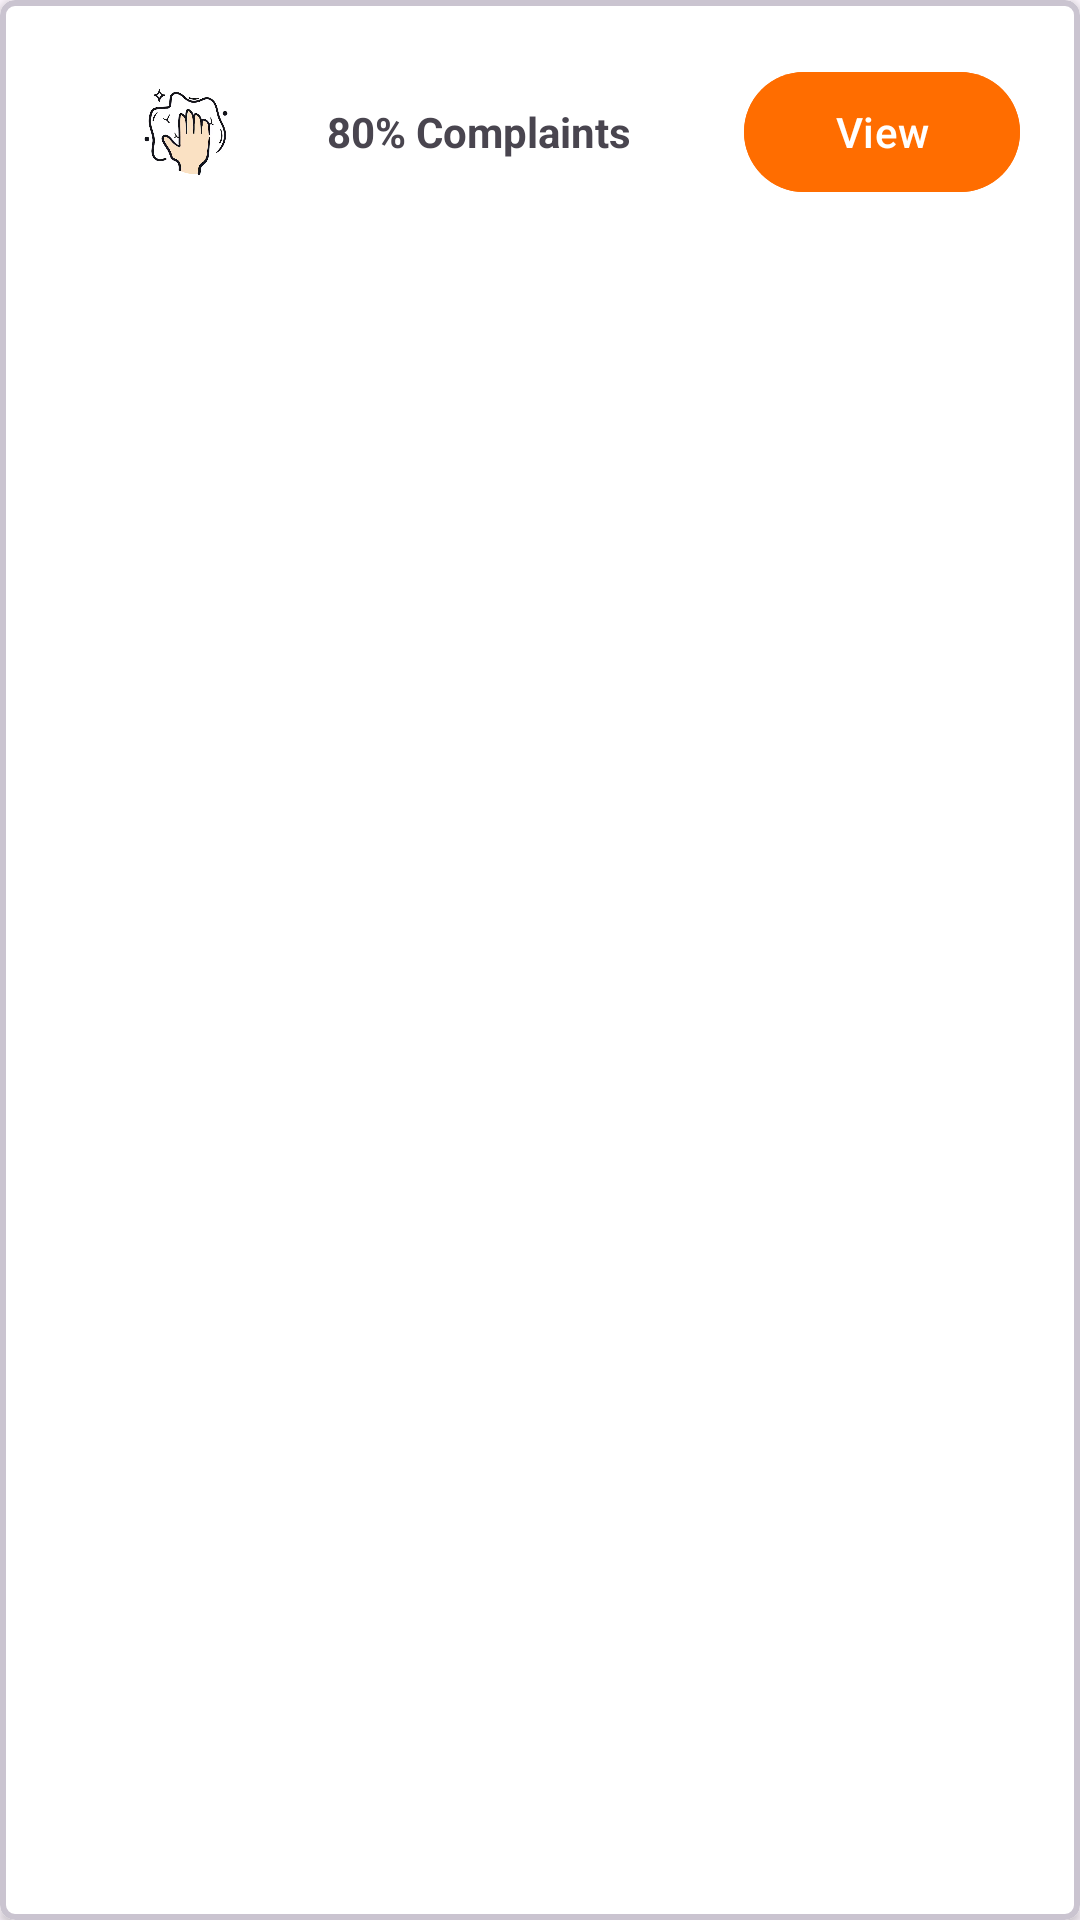

Icons on this 1080px x 1920px Android screen, each with its box as (x1, y1, x2, y2):
wipe: (144, 89, 228, 175)
